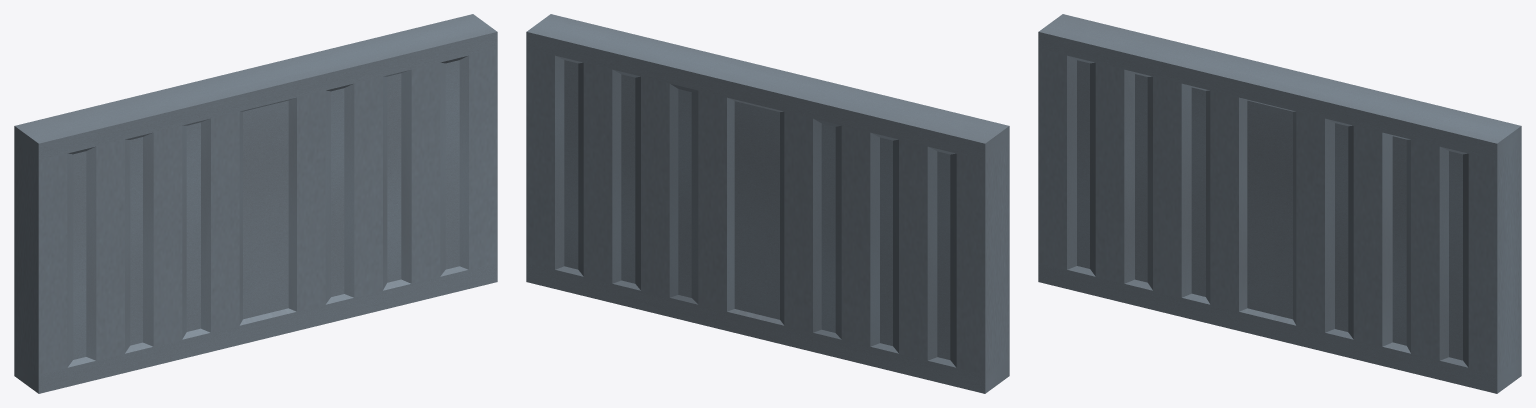
Rendered from Gate.gltf.
The picture shows the model from 3 angles, left to right: view 1: azimuth 30°, elevation 25°; view 2: azimuth 150°, elevation 25°; view 3: azimuth 330°, elevation 25°; orthographic projection.
Visible parts, largest first — view 1: Cube.001; view 2: Cube.001; view 3: Cube.001.
Part boxes in pixels (bbox=[...]): Cube.001: bbox=[14, 14, 497, 393]; Cube.001: bbox=[526, 14, 1009, 393]; Cube.001: bbox=[1038, 14, 1521, 393].
Bounding box in the file's own units: 7.62 × 3.98 × 0.7007.
1 material, 1 textured.
